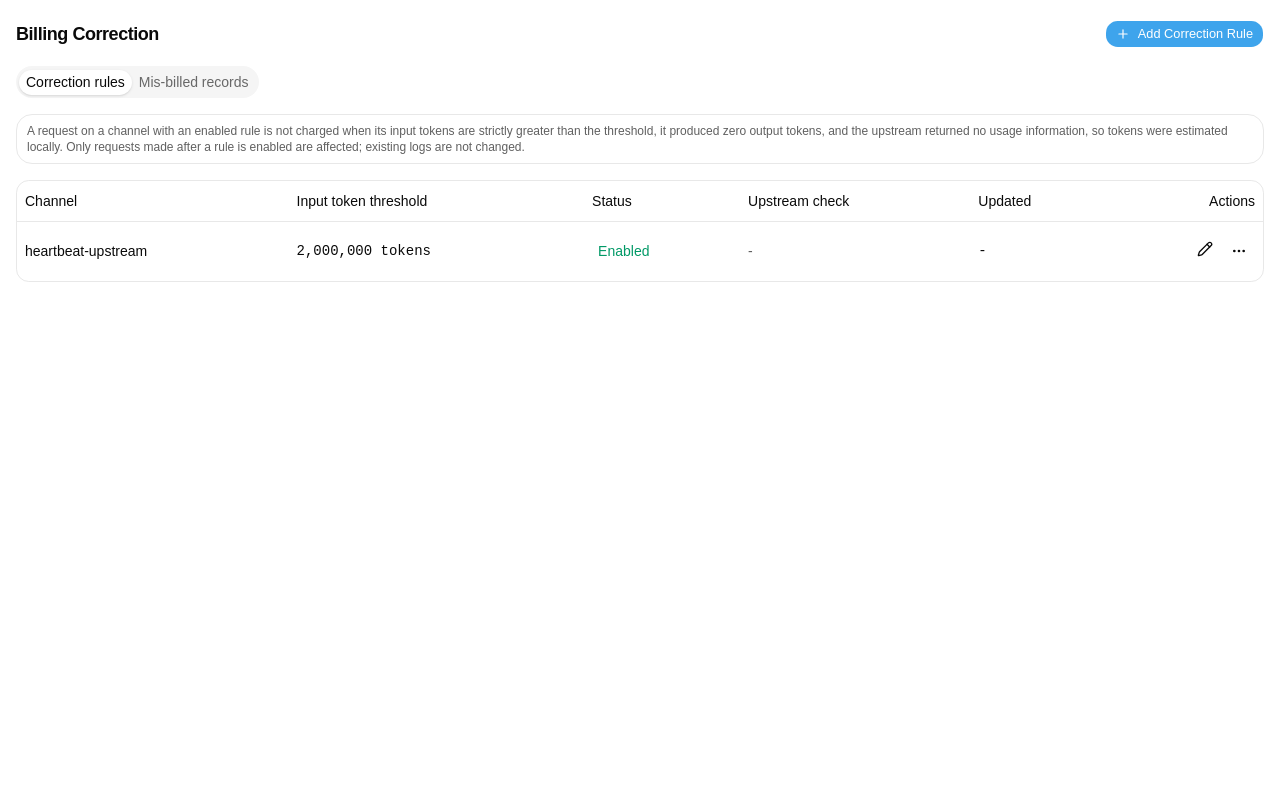
billing correction page › keeps the confirmation open and shows the server message when deletion is rejected
The width and height of the screenshot is (1280, 800).
expect the text "heartbeat-upstream" is shown: met, box [25,243,147,259]
Click the button named "Actions" at (1239, 251), box [1223,235,1255,267]
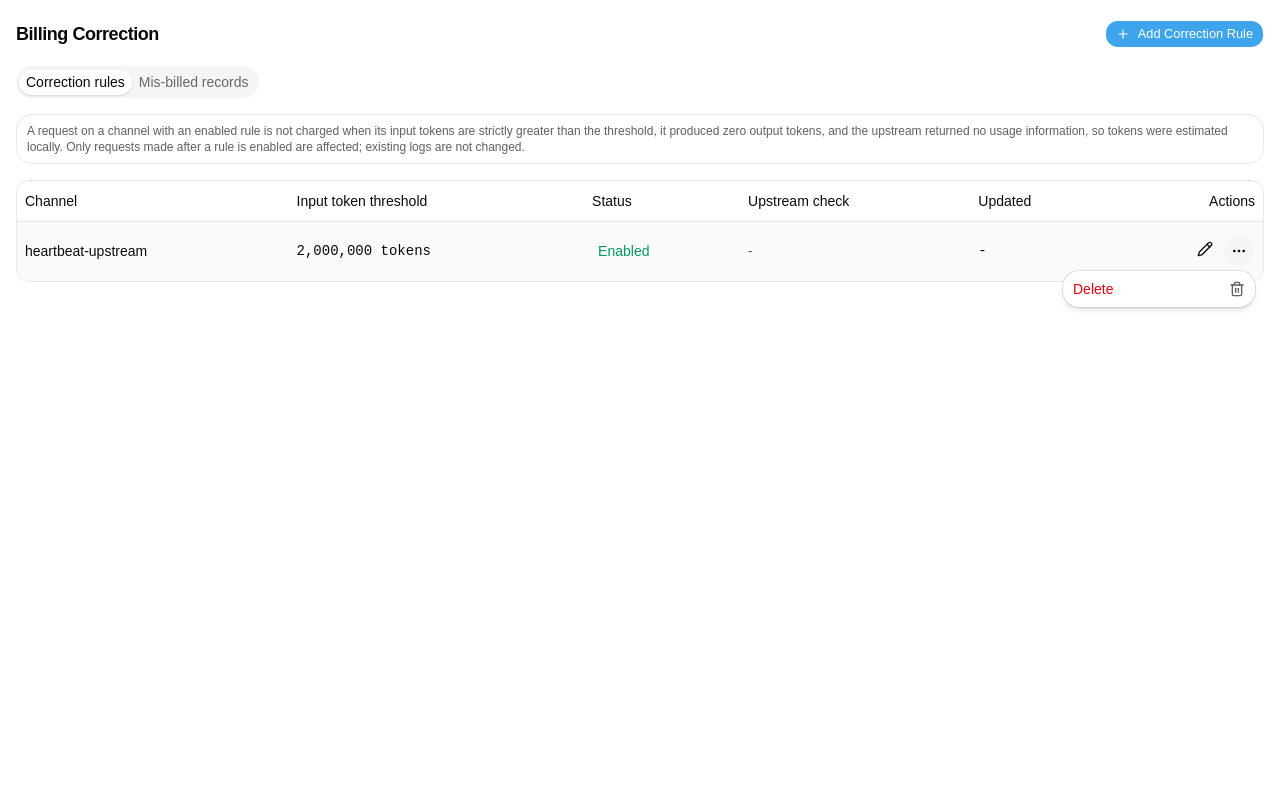
Click the menu item "Delete" at (1093, 289), box [1073,281,1245,297]
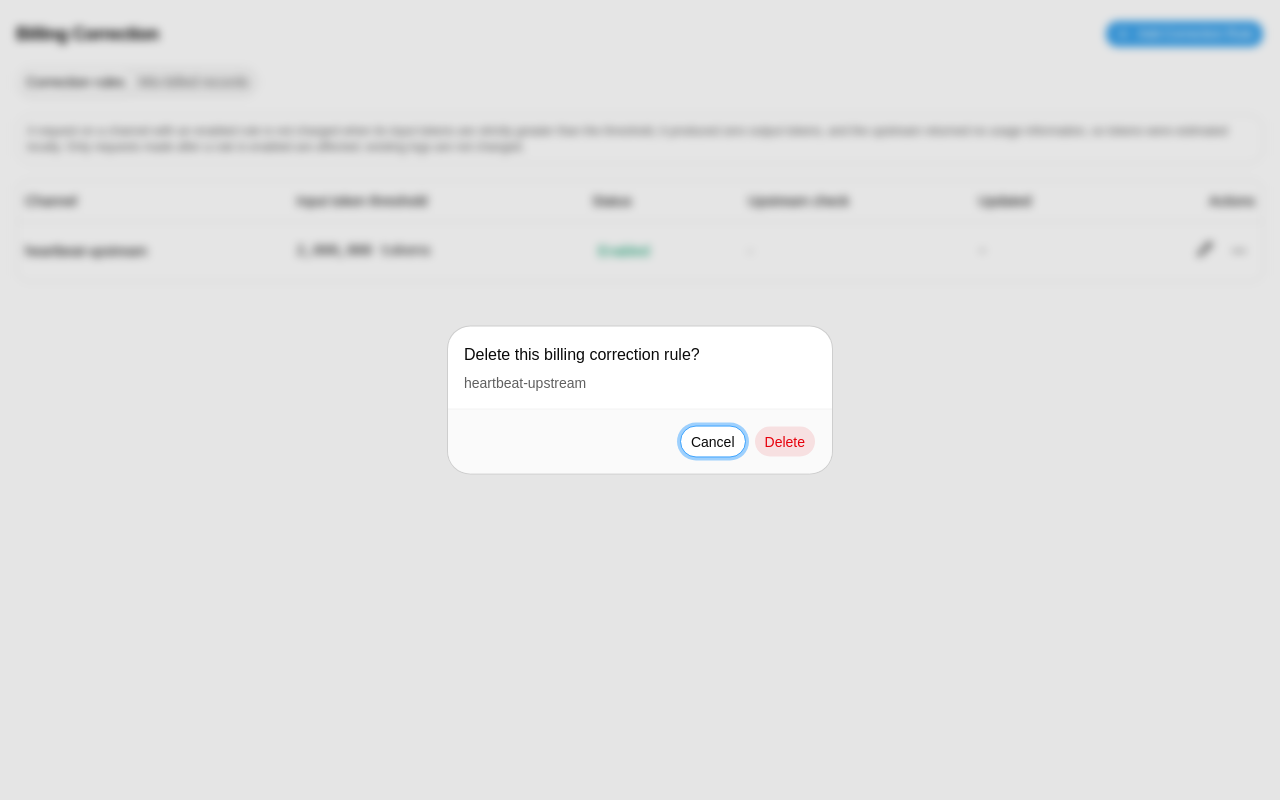
Click the button "Delete" at (785, 442), box [754,426,816,458]
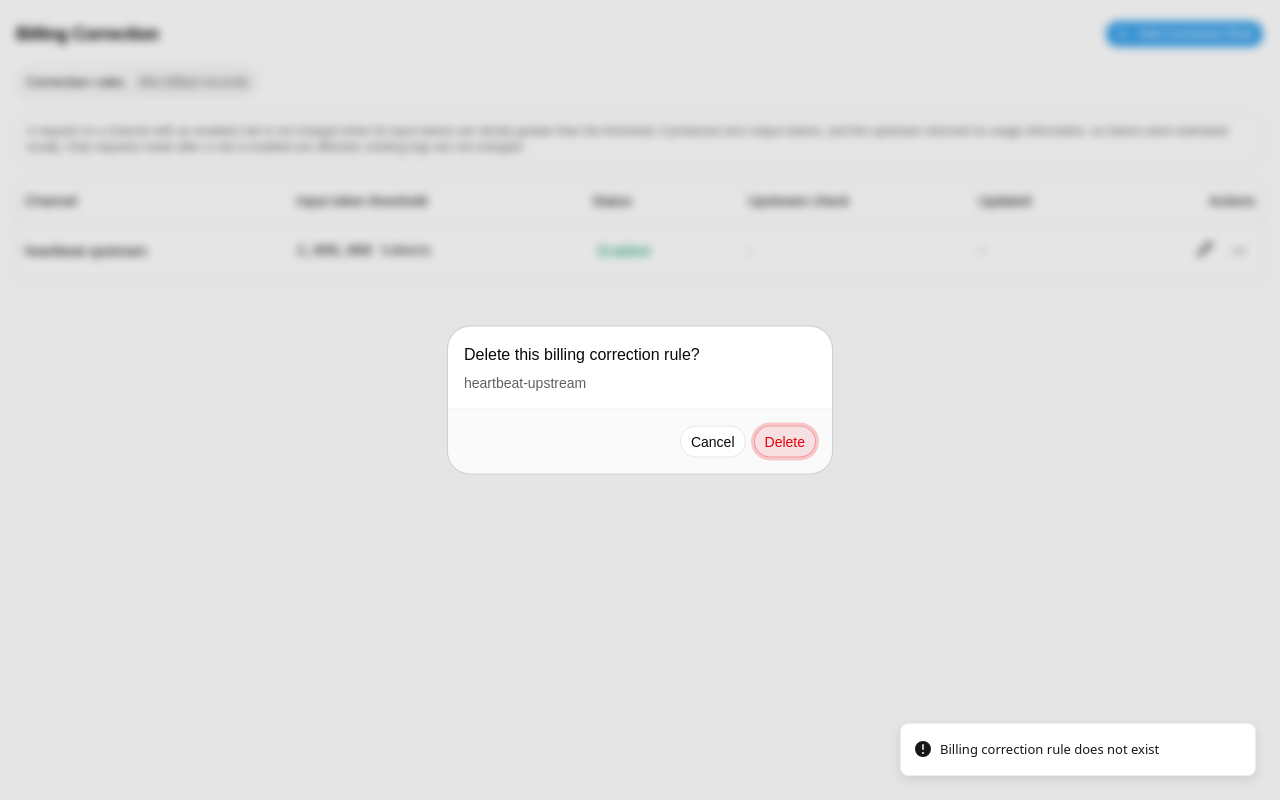
expect the dialog is shown: met, box [448,326,832,474]
expect the text "Billing correction rule does not exist" is shown: met, box [940,740,1159,759]
